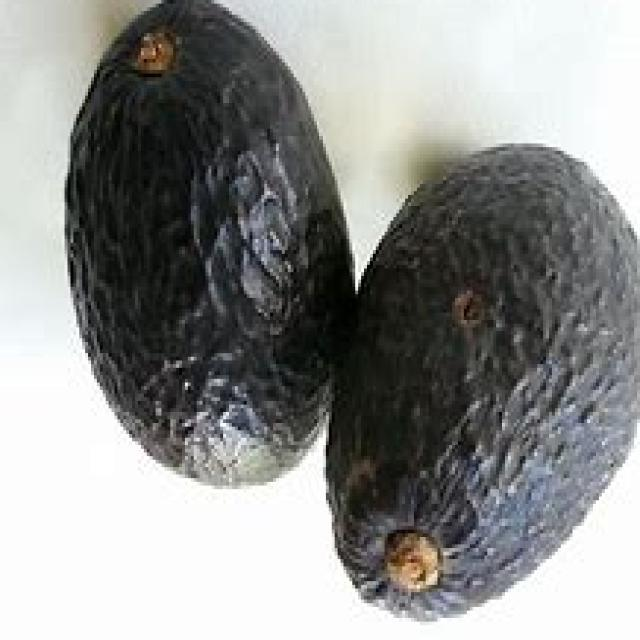avocado: (327, 134, 639, 619), (60, 0, 348, 489)
